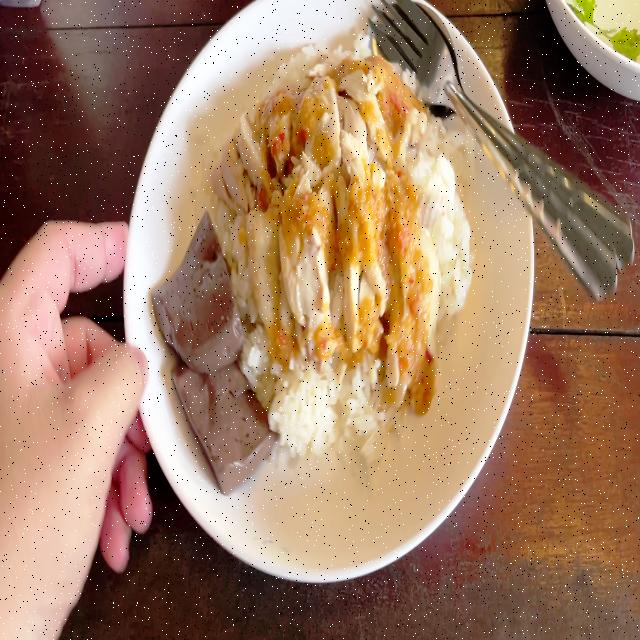boiled_chicken: (233, 63, 403, 338)
boiled_chicken_blood_jelly: (171, 342, 268, 485), (154, 212, 240, 366)
chicken_rice: (143, 21, 481, 492)
